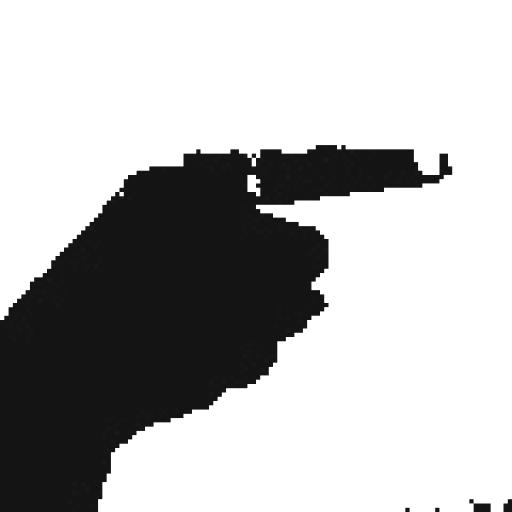index_left: (0, 142, 454, 368)
